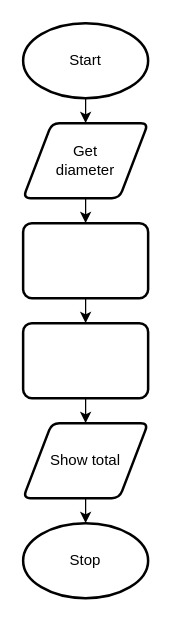
Some shapes in this 170 by 620 pixel diagram are drawn without their labels. The shapes that lost their labels are listed below. From the top down, each one's box as (x1, y1, x2, y2) in pixels, then its label:
(21, 221, 149, 299): sub_total = 0.75 + 1 + (0.5 * diameter)
(21, 321, 149, 399): total = sub_total * 1.13
